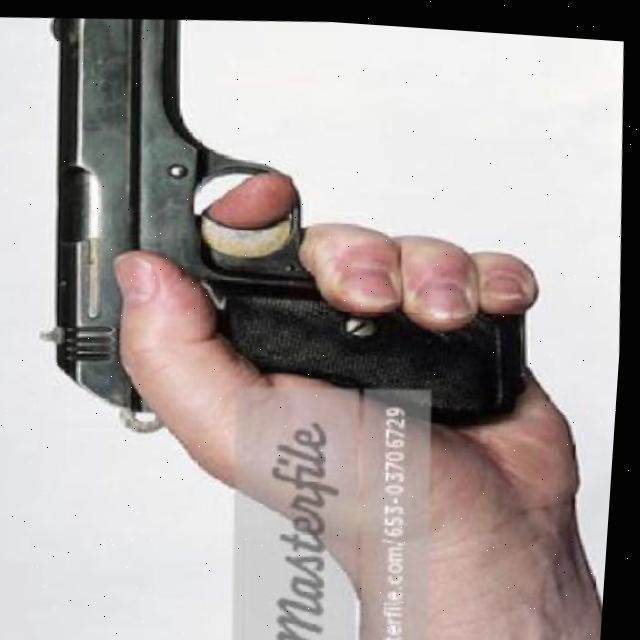gun: (11, 2, 547, 497)
